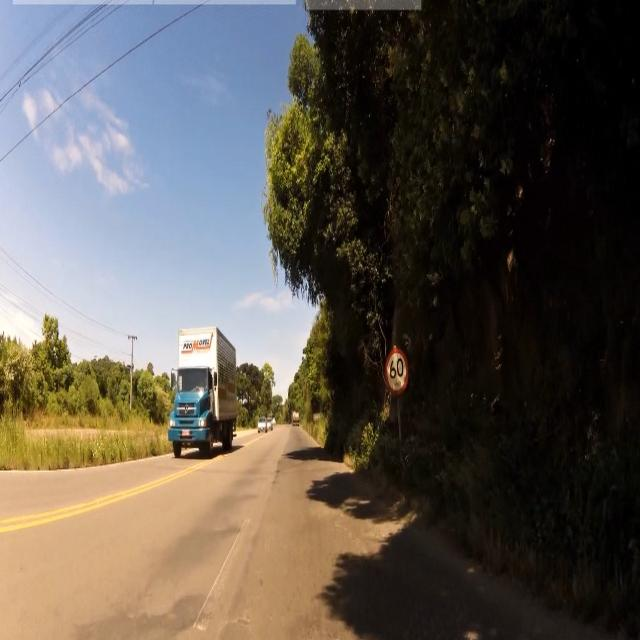R-19: (382, 348, 409, 394)
